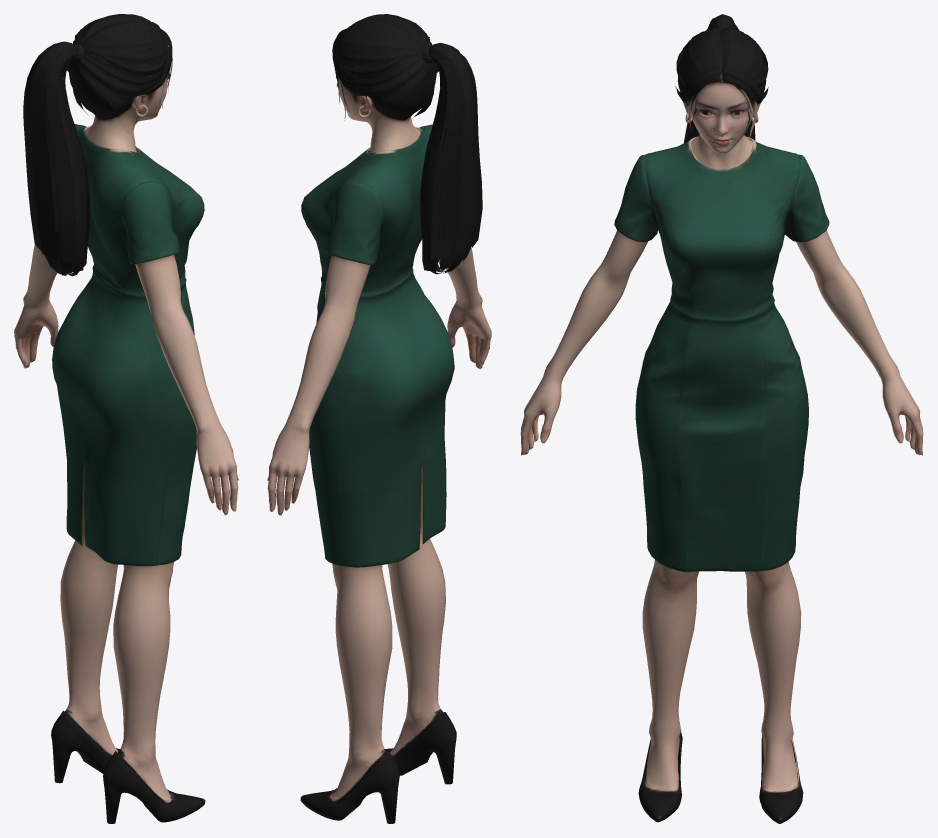
File: player-female-stunning-v1.glb
3 views of the same model, side by side, from view 1: azimuth 30°, elevation 25°; view 2: azimuth 150°, elevation 25°; view 3: azimuth 270°, elevation 25° (orthographic).
Parts seen in each view (by area): view 1: player-female-stunning-v1-0; view 2: player-female-stunning-v1-0; view 3: player-female-stunning-v1-0.
Part boxes in pixels (<box>): player-female-stunning-v1-0: <box>14,14,238,823</box>; player-female-stunning-v1-0: <box>267,14,491,823</box>; player-female-stunning-v1-0: <box>520,14,923,823</box>.
Bounding box in the file's own units: 0.2114 × 0.9995 × 0.478.
Materials: 1 (1 with a texture image).
